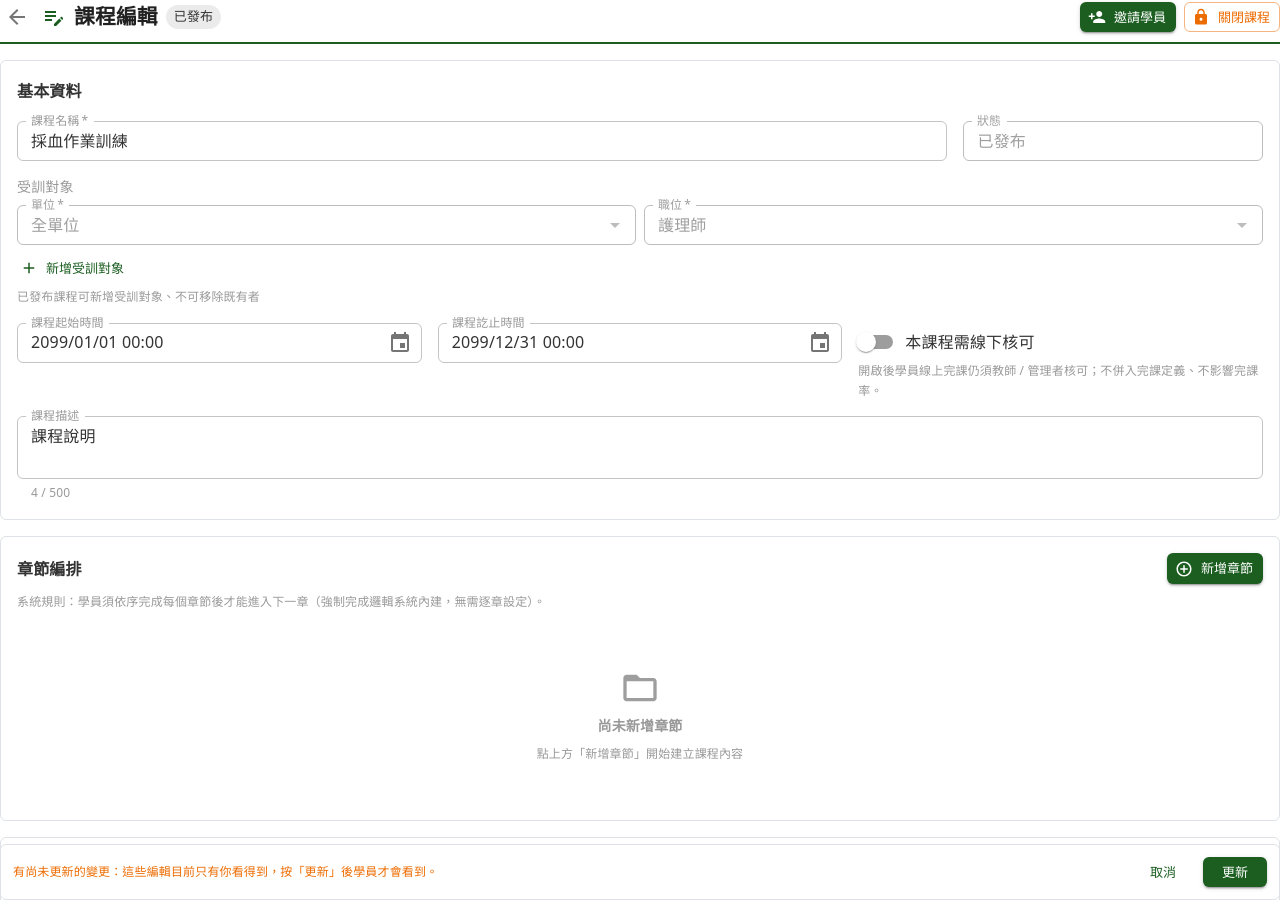
草稿按「取消」要先講清楚哪一半留著（#804 ①） › 已發布課程的「取消」維持原本的放棄視窗，一字不動（正向錨點）
Expected: the field showing "採血作業訓練" is shown, [17,121,948,161]
Click the button "取消". click: x=1163, y=872
box: [1131,856,1195,887]
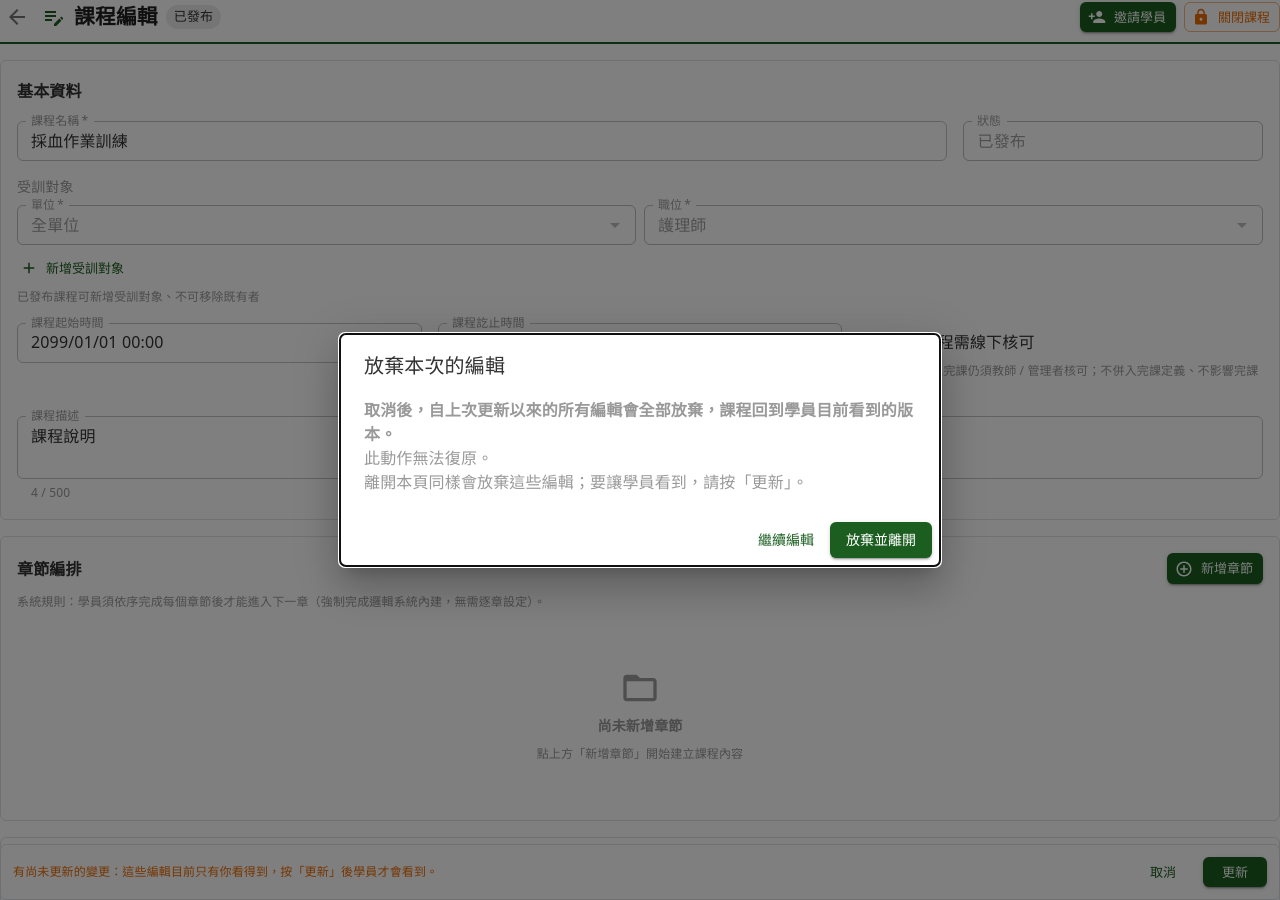
Now the heading "放棄本次的編輯" is shown, box [364,352,505,379]
Now the button "放棄並離開" is shown, box [830,522,932,558]
